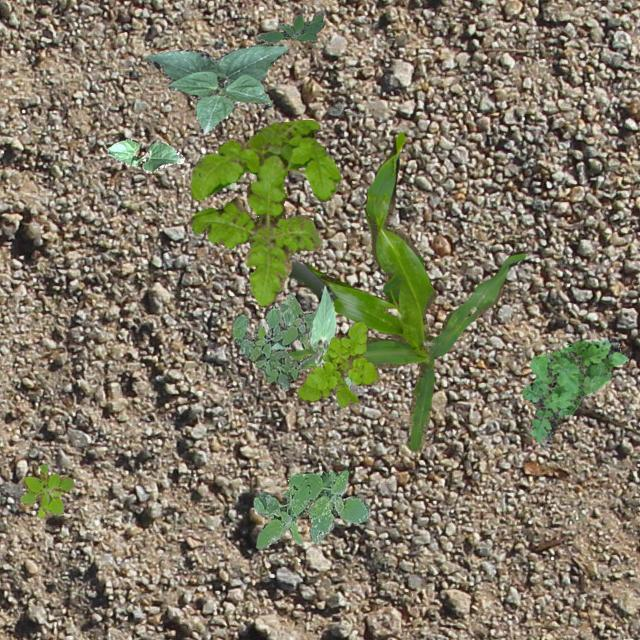crop: (286, 132, 524, 452), (144, 42, 288, 132), (306, 284, 351, 388), (105, 138, 183, 172), (266, 300, 296, 348)
weed: (188, 118, 340, 306), (520, 336, 626, 446), (252, 468, 370, 548), (232, 292, 314, 389), (297, 320, 378, 406), (19, 463, 72, 518), (256, 12, 324, 42)
